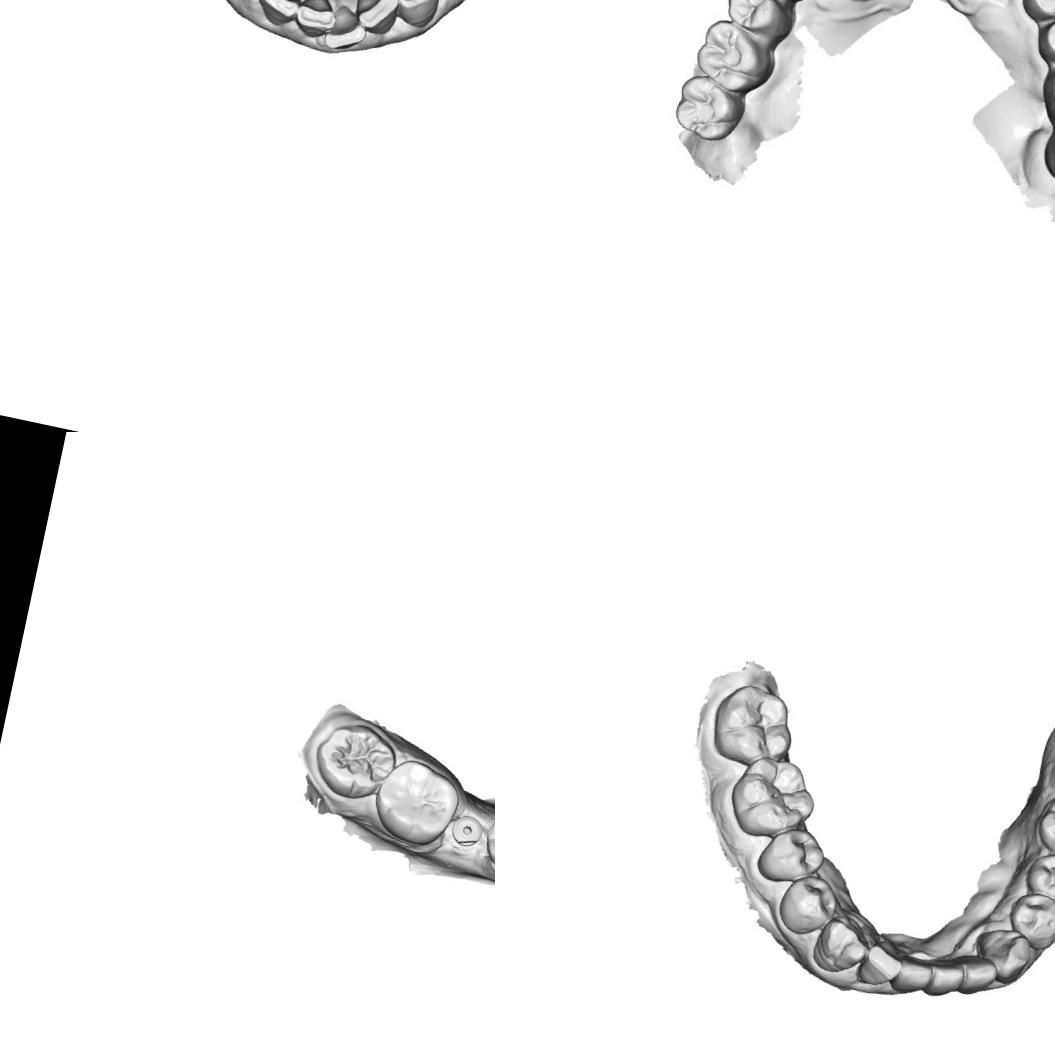canine: (969, 924, 1038, 988), (810, 911, 872, 979), (382, 0, 445, 30)
implant: (446, 810, 489, 852)
incisor: (852, 937, 904, 996), (322, 1, 373, 56), (291, 0, 342, 42), (889, 953, 932, 1002), (956, 954, 1000, 1000), (923, 956, 965, 1003), (350, 0, 403, 37), (250, 0, 303, 29)
molar: (366, 752, 466, 852), (724, 748, 823, 847), (707, 678, 801, 774), (306, 714, 402, 807), (689, 13, 782, 101), (668, 69, 754, 150), (1034, 109, 1055, 197), (1033, 789, 1055, 871), (1035, 46, 1055, 136)
premolar: (750, 820, 830, 892), (775, 875, 836, 938), (720, 0, 800, 42), (1004, 891, 1055, 953), (1021, 849, 1055, 911), (1030, 0, 1055, 76), (1015, 0, 1055, 36), (477, 806, 495, 883)
